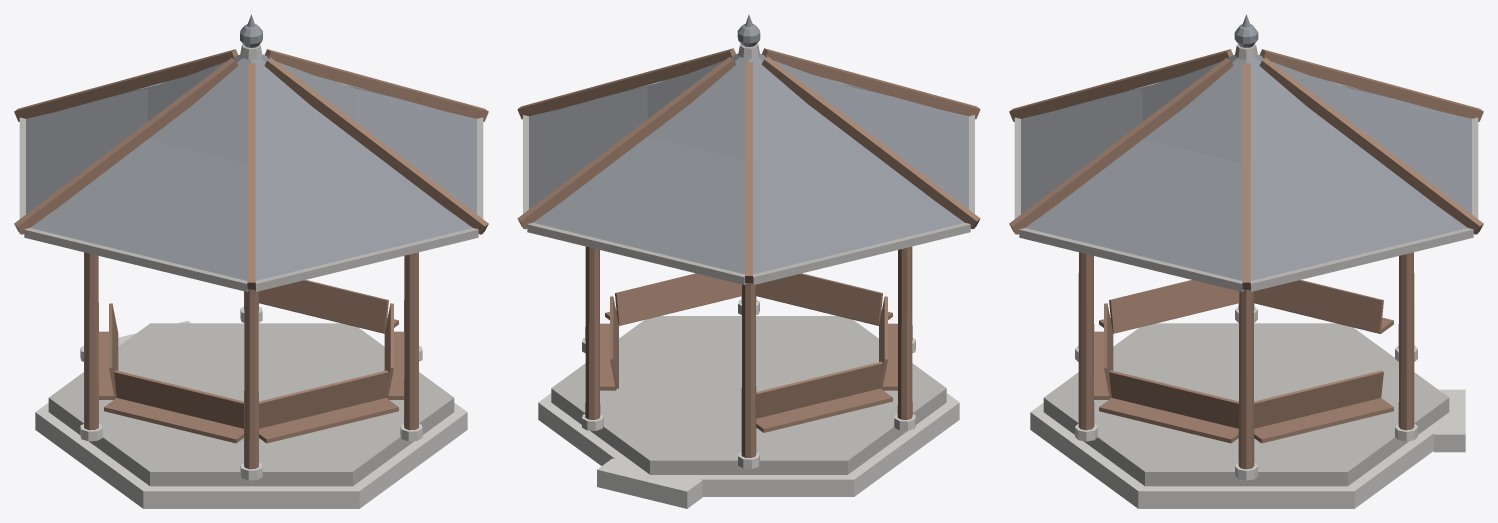
Rendered from park_pavilion.glb.
3 renders of one model, left to right at view 1: azimuth 30°, elevation 25°; view 2: azimuth 150°, elevation 25°; view 3: azimuth 270°, elevation 25°, orthographic. The views are drawn at different scales.
Parts seen in each view (by area): view 1: Pavilion_Roof, Pavilion_Timber, Pavilion_StoneDark, Pavilion_Stone; view 2: Pavilion_Roof, Pavilion_StoneDark, Pavilion_Timber, Pavilion_Stone; view 3: Pavilion_Roof, Pavilion_Timber, Pavilion_StoneDark, Pavilion_Stone.
Part boxes in pixels (left/top/right/bottom): Pavilion_Roof: left=26, top=54, right=476, bottom=280; Pavilion_Timber: left=14, top=49, right=488, bottom=469; Pavilion_StoneDark: left=19, top=44, right=483, bottom=486; Pavilion_Stone: left=35, top=306, right=467, bottom=508; Pavilion_Roof: left=529, top=53, right=968, bottom=274; Pavilion_StoneDark: left=523, top=43, right=974, bottom=474; Pavilion_Timber: left=517, top=48, right=980, bottom=457; Pavilion_Stone: left=538, top=299, right=959, bottom=508; Pavilion_Roof: left=1021, top=54, right=1471, bottom=280; Pavilion_Timber: left=1009, top=49, right=1483, bottom=469; Pavilion_StoneDark: left=1014, top=44, right=1478, bottom=486; Pavilion_Stone: left=1030, top=306, right=1465, bottom=508.
Size of the model in its own units: 0.6115 by 0.516 by 0.534.
